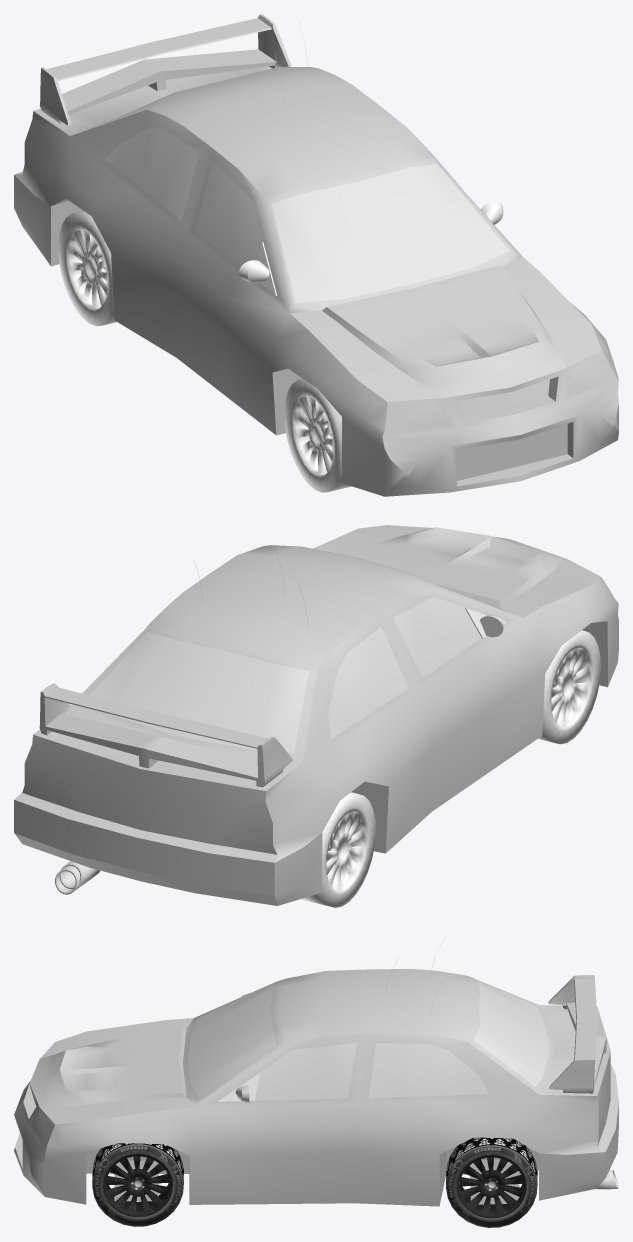
File: low poly lance evo.glb
3 renders of one model, top to bottom at view 1: azimuth 30°, elevation 25°; view 2: azimuth 150°, elevation 25°; view 3: azimuth 270°, elevation 25°, orthographic. The views are drawn at different scales.
Visible parts, largest first — view 1: Mitsubishi.Body, Mitsubishi.Wheel.Ft.R, Mitsubishi.Wheel.Bk.R, Mitsubishi.Body.003; view 2: Mitsubishi.Body, Mitsubishi.Wheel.Bk.R, Mitsubishi.Wheel.Ft.R, Mitsubishi.Body.003, Circle.001; view 3: Mitsubishi.Body, Mitsubishi.Wheel.Bk.L, Mitsubishi.Wheel.Ft.L, Mitsubishi.Body.002, Plane, Plane.001.
Part boxes in pixels (x1,y1,x2,y2): Mitsubishi.Body: (14, 14, 618, 496); Mitsubishi.Wheel.Ft.R: (284, 378, 351, 492); Mitsubishi.Wheel.Bk.R: (58, 210, 116, 326); Mitsubishi.Body.003: (239, 242, 276, 295); Mitsubishi.Body: (14, 525, 618, 905); Mitsubishi.Wheel.Bk.R: (300, 792, 375, 907); Mitsubishi.Wheel.Ft.R: (538, 630, 600, 744); Mitsubishi.Body.003: (465, 608, 506, 638); Circle.001: (59, 861, 99, 888); Mitsubishi.Body: (14, 969, 618, 1206); Mitsubishi.Wheel.Bk.L: (446, 1137, 537, 1227); Mitsubishi.Wheel.Ft.L: (92, 1143, 183, 1226); Mitsubishi.Body.002: (217, 1073, 260, 1103); Plane: (469, 1159, 519, 1204); Plane.001: (114, 1160, 158, 1201).
Bounding box in the file's own units: 2.43 × 2.35 × 5.83.
Materials: 10 (1 with a texture image).
